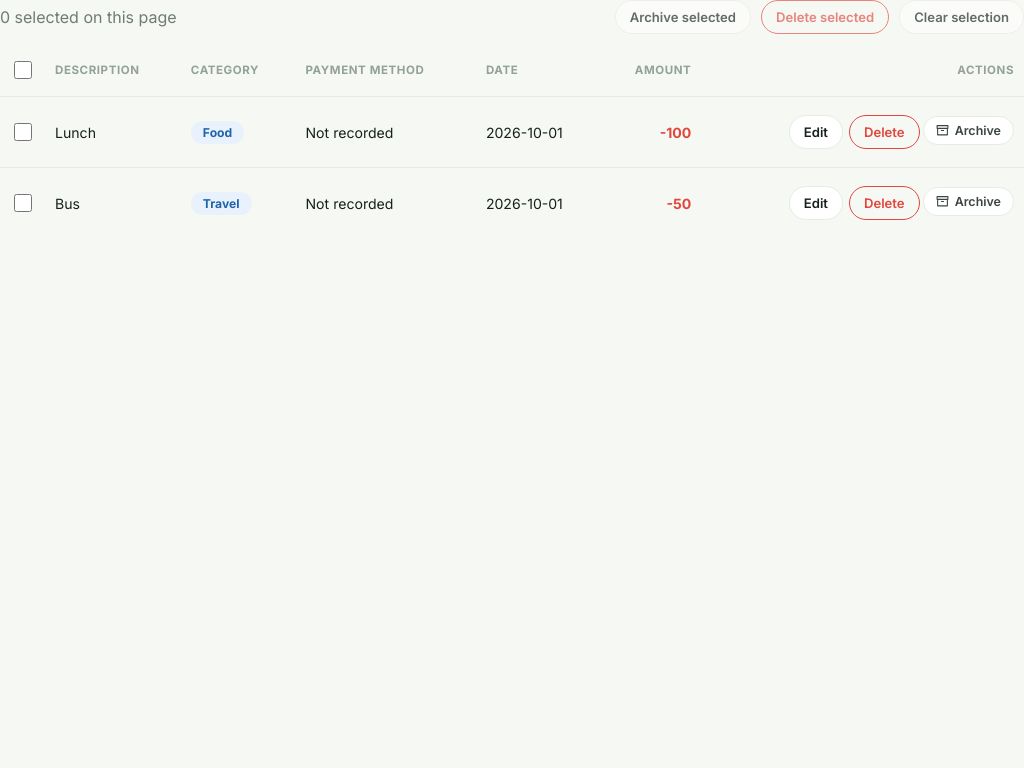
selects rows and all visible rows, confirms deletion, and clears completed selection
Expected: the button "Delete selected" is disabled, left=761, top=0, right=889, bottom=34
Step 1. Click the checkbox named "Select Lunch (transaction 1)" → coordinates (23, 132), box left=14, top=123, right=32, bottom=141
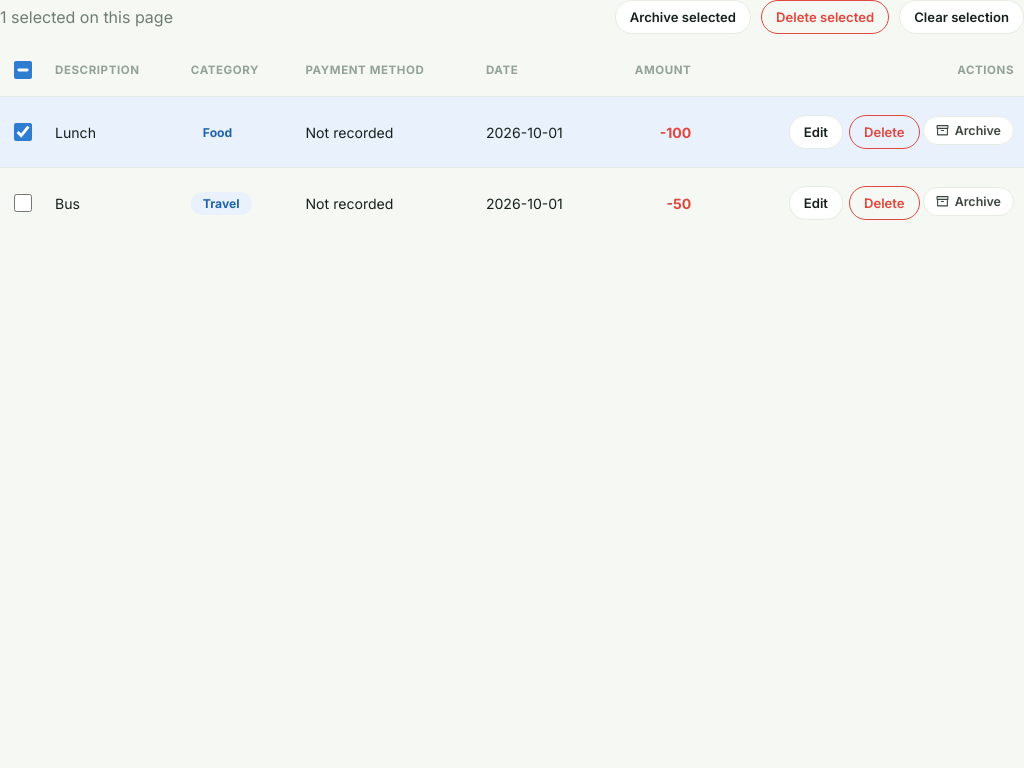
Step 2. Click the checkbox named "Select all transactions on this page" → coordinates (23, 70), box left=14, top=61, right=32, bottom=79
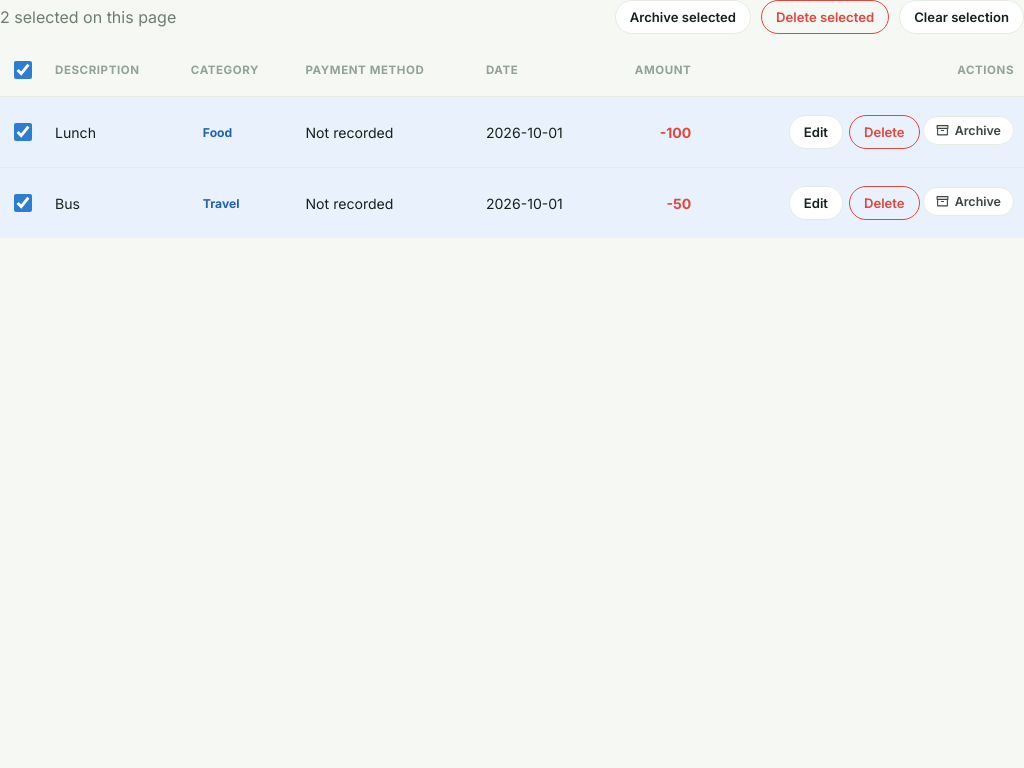
Expected: the message shows "2 selected", left=0, top=7, right=176, bottom=27
Step 3. Click the button "Delete selected" → coordinates (825, 17), box left=761, top=0, right=889, bottom=34
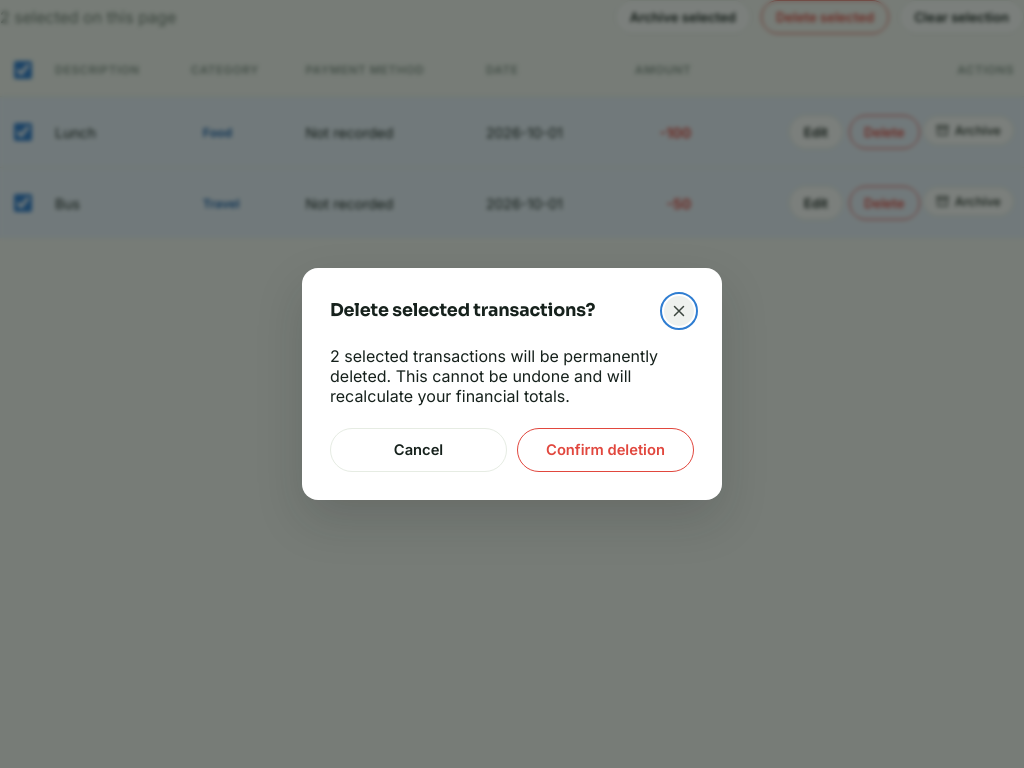
Expected: the dialog shows "cannot be undone", left=330, top=346, right=658, bottom=406
Step 4. Click the button "Cancel" → coordinates (418, 450), box left=330, top=428, right=507, bottom=472
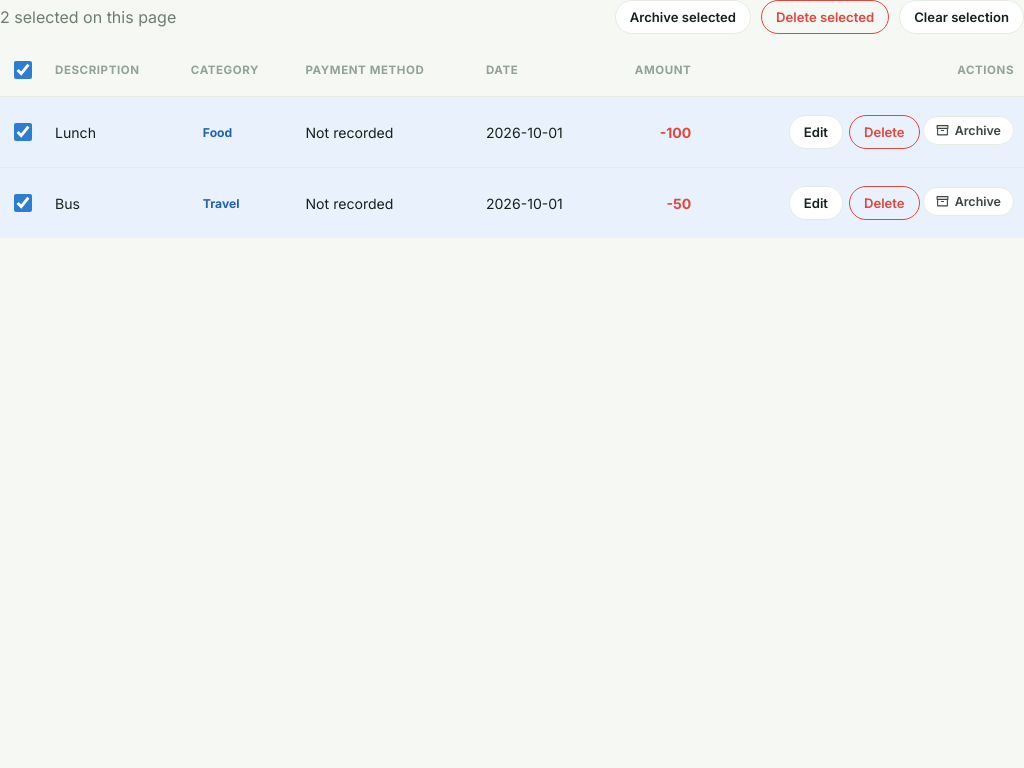
Step 5. Click the button "Delete selected" → coordinates (825, 17), box left=761, top=0, right=889, bottom=34
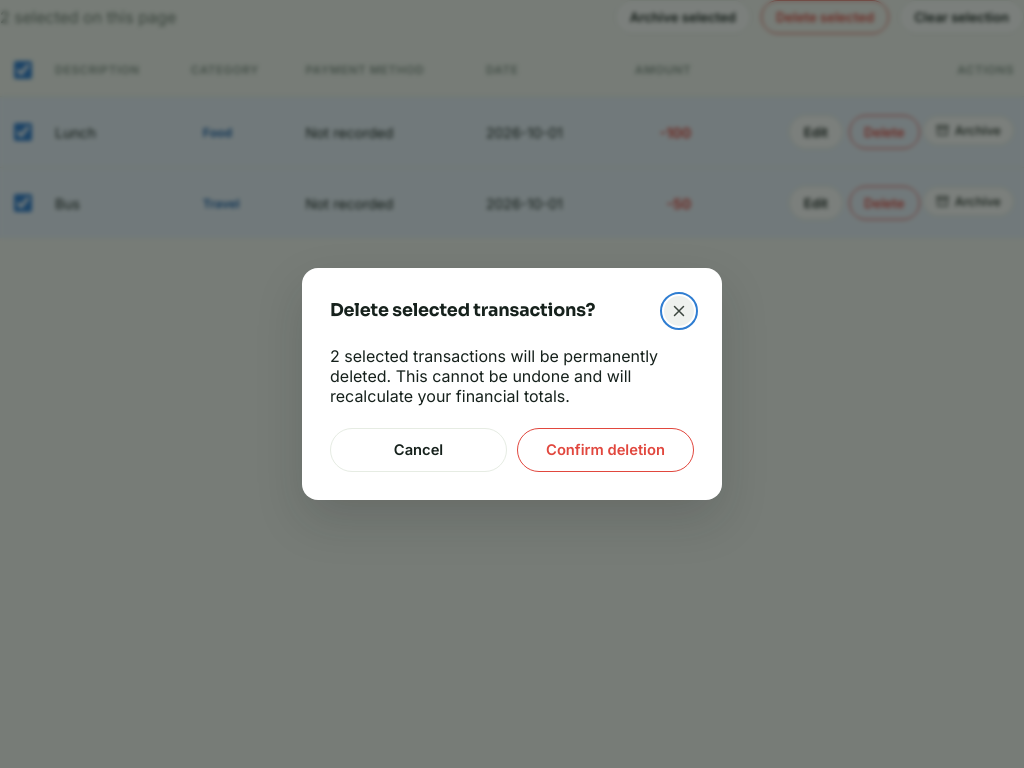
Step 6. Click the button "Confirm deletion" → coordinates (606, 450), box left=517, top=428, right=694, bottom=472
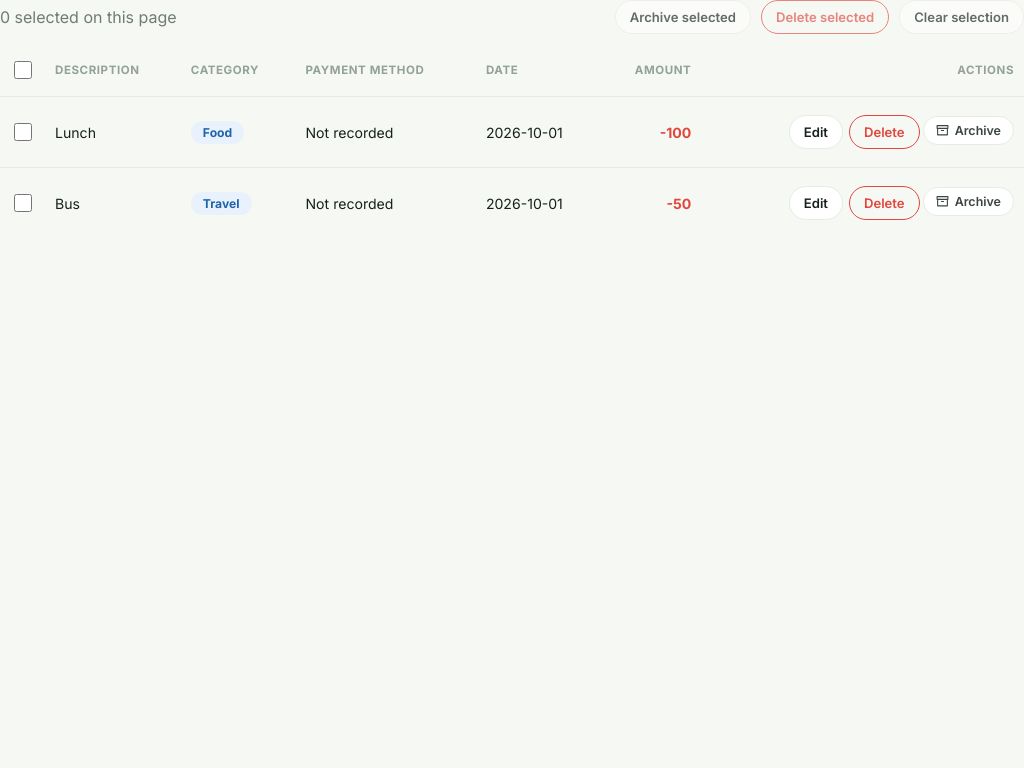
Expected: the dialog is gone
Expected: the message shows "0 selected", left=0, top=7, right=177, bottom=27
